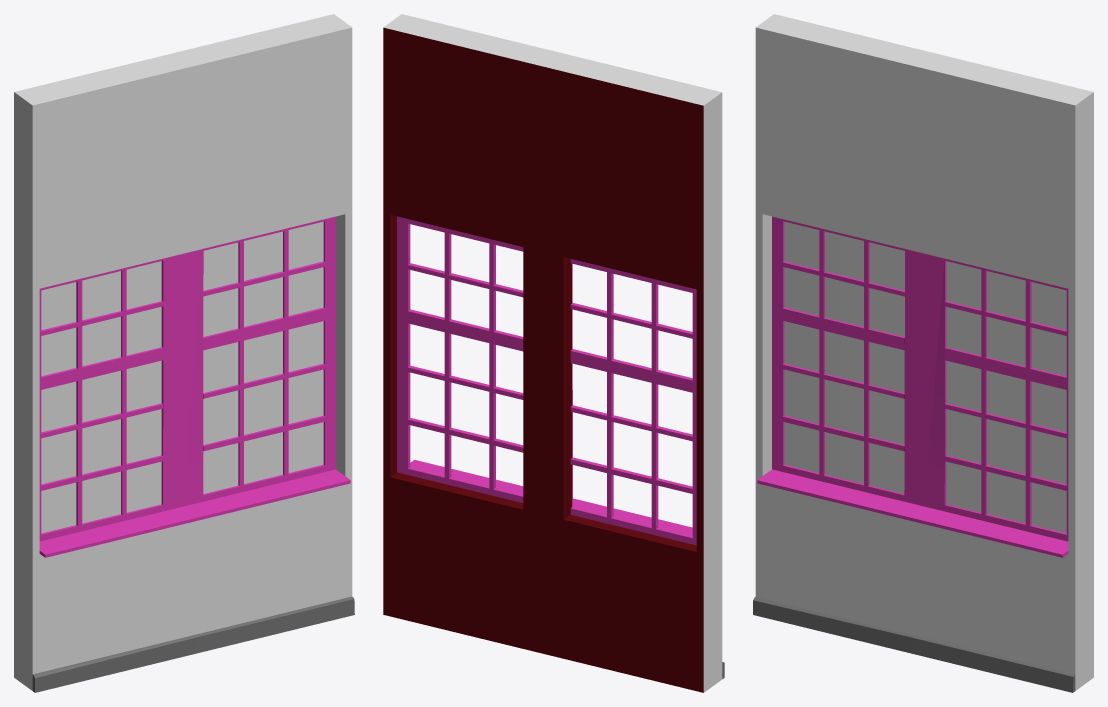
The model's file is Fenster2_3.glb.
3 renders of one model, left to right at view 1: azimuth 30°, elevation 25°; view 2: azimuth 150°, elevation 25°; view 3: azimuth 330°, elevation 25°, orthographic.
Parts seen in each view (by area): view 1: Mesh; view 2: Mesh; view 3: Mesh.
Boxes of the visible parts, bbox=[...] form: Mesh: bbox=[14, 14, 354, 692]; Mesh: bbox=[383, 14, 724, 692]; Mesh: bbox=[753, 14, 1093, 692].
Bounding box in the file's own units: 2 × 3.5 × 0.2605.
